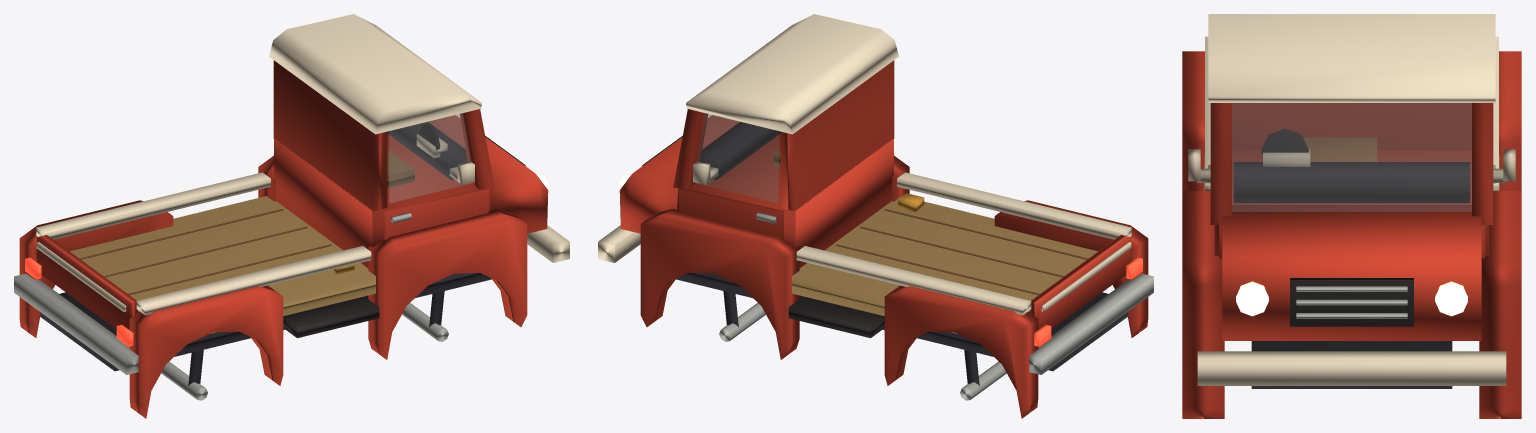
Rendered from truck_pickup_lod1.glb.
The picture shows the model from 3 angles, left to right: view 1: azimuth 30°, elevation 25°; view 2: azimuth 150°, elevation 25°; view 3: azimuth 270°, elevation 25°; orthographic projection. The views are drawn at different scales.
Visible parts, largest first — view 1: Steel chassis, Raked windscreen, Tailgate, Stamped door.001, Axle shaft, Axle shaft.001, Brake lamp; view 2: Steel chassis, Raked windscreen, Tailgate, Axle shaft, Axle shaft.001, Brake lamp; view 3: Steel chassis, Raked windscreen, Headlamp lens.
Part boxes in pixels (bbox=[...]): Steel chassis: bbox=[14, 14, 569, 418]; Raked windscreen: bbox=[389, 113, 474, 202]; Tailgate: bbox=[36, 235, 138, 329]; Stamped door.001: bbox=[384, 188, 489, 239]; Axle shaft: bbox=[402, 291, 448, 341]; Axle shaft.001: bbox=[161, 350, 207, 400]; Brake lamp: bbox=[25, 257, 133, 346]; Steel chassis: bbox=[598, 14, 1153, 418]; Raked windscreen: bbox=[693, 113, 778, 202]; Tailgate: bbox=[1029, 235, 1131, 329]; Axle shaft: bbox=[719, 291, 765, 341]; Axle shaft.001: bbox=[960, 350, 1006, 400]; Brake lamp: bbox=[1034, 257, 1142, 346]; Steel chassis: bbox=[1182, 14, 1521, 418]; Raked windscreen: bbox=[1232, 103, 1471, 211]; Headlamp lens: bbox=[1236, 281, 1467, 316].
Size of what is drawn, in the model's own units: 4.23 by 2.27 by 2.08.
